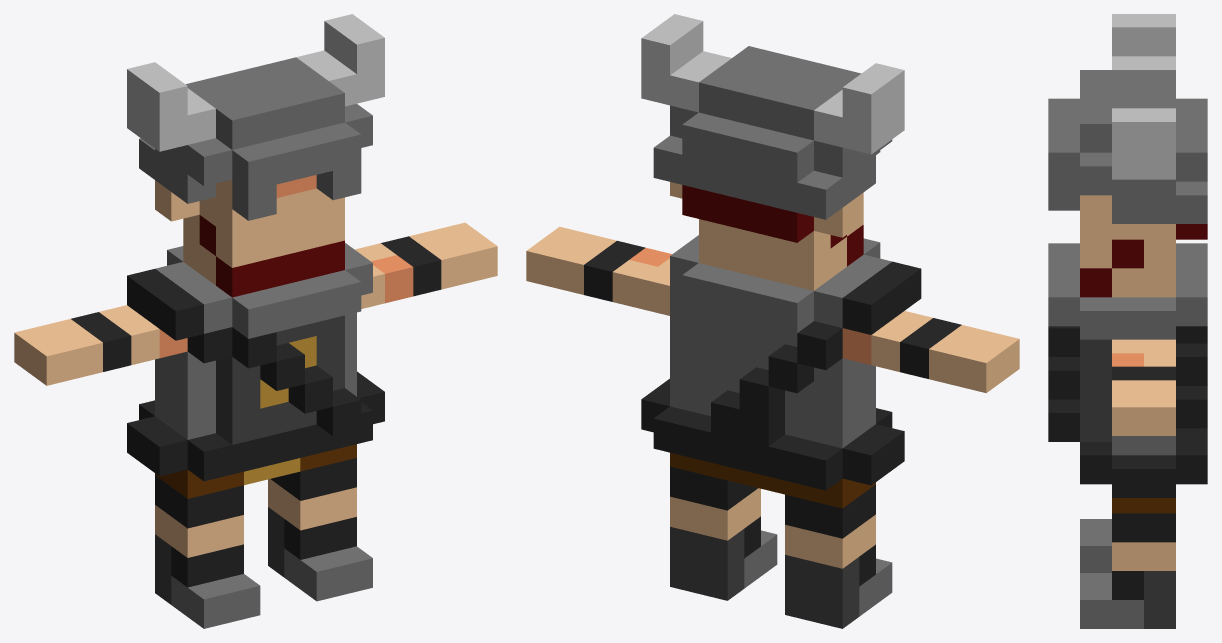
Rendered from Guerreiro_UVED.fbx.
3 renders of one model, left to right at view 1: azimuth 30°, elevation 25°; view 2: azimuth 150°, elevation 25°; view 3: azimuth 270°, elevation 25°, orthographic. The views are drawn at different scales.
Visible parts, largest first — view 1: polySurface49; view 2: polySurface49; view 3: polySurface49.
Boxes of the visible parts, bbox=[...] form: polySurface49: bbox=[14, 14, 497, 628]; polySurface49: bbox=[526, 14, 1019, 628]; polySurface49: bbox=[1048, 14, 1207, 628].
Bounding box in the file's own units: 16 × 18 × 5.
Materials: 1 (1 with a texture image).
